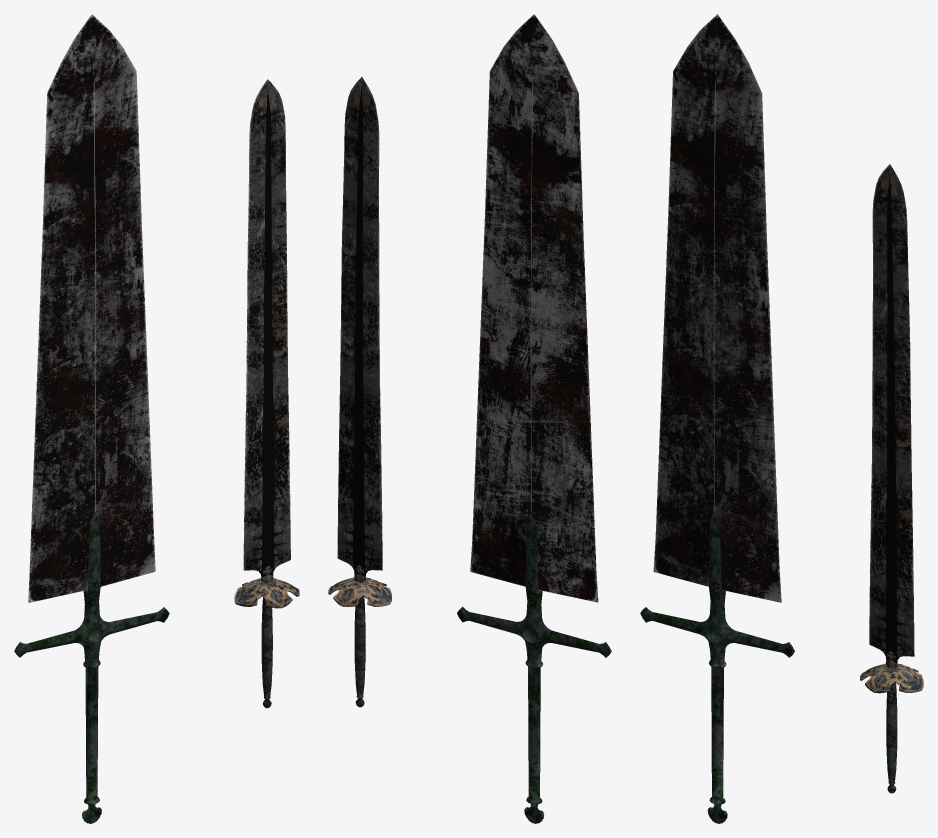
File: black_clover.glb
3 renders of one model, left to right at view 1: azimuth 30°, elevation 25°; view 2: azimuth 150°, elevation 25°; view 3: azimuth 330°, elevation 25°, orthographic.
Parts seen in each view (by area): view 1: Danma, Shukuma; view 2: Danma, Shukuma; view 3: Danma, Shukuma.
Part boxes in pixels (left/top/right/bottom): Danma: left=14, top=14, right=169, bottom=823; Shukuma: left=234, top=79, right=299, bottom=708; Danma: left=457, top=14, right=611, bottom=823; Shukuma: left=328, top=77, right=391, bottom=707; Danma: left=640, top=14, right=794, bottom=823; Shukuma: left=860, top=164, right=923, bottom=793.
Bounding box in the file's own units: 75.89 × 207 × 14.75.
2 materials, 2 textured.
